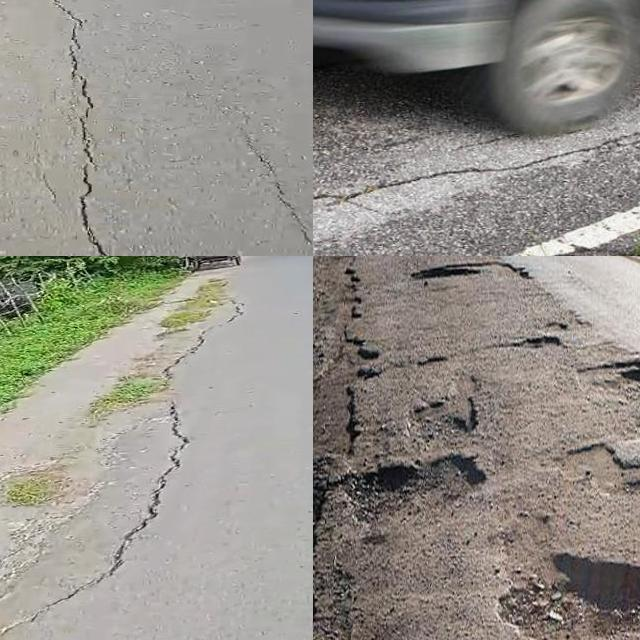Lubang: (507, 551, 640, 640), (341, 460, 490, 526), (554, 446, 640, 492), (408, 260, 526, 291)
Memanjang: (0, 299, 255, 624), (41, 0, 128, 256)
Pinggir: (313, 256, 383, 640)
